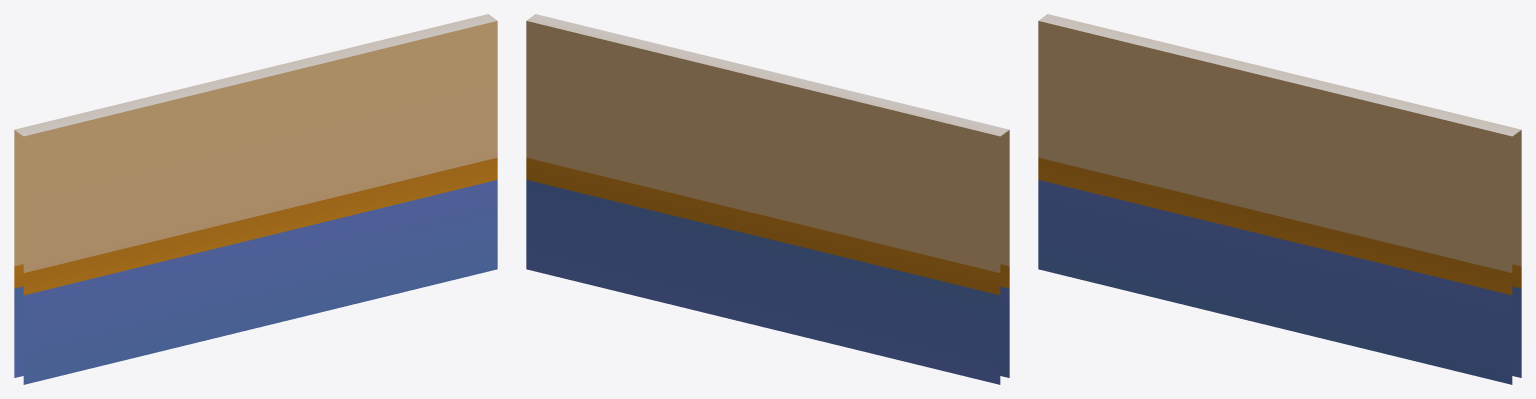
Rendered from Wall_01.fbx.
3 renders of one model, left to right at view 1: azimuth 30°, elevation 25°; view 2: azimuth 150°, elevation 25°; view 3: azimuth 330°, elevation 25°, orthographic.
Parts seen in each view (by area): view 1: Wall_01; view 2: Wall_01; view 3: Wall_01.
Boxes of the visible parts, x1=… form: Wall_01: x1=14, y1=14, x2=497, y2=384; Wall_01: x1=526, y1=14, x2=1009, y2=384; Wall_01: x1=1038, y1=14, x2=1521, y2=384.
Bounding box in the file's own units: 249 × 125 × 8.44.
